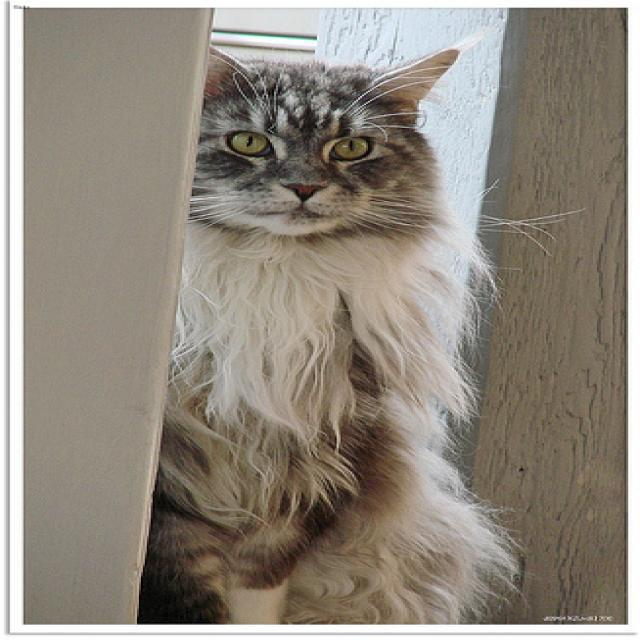Maine_Coon: (186, 44, 456, 236)
